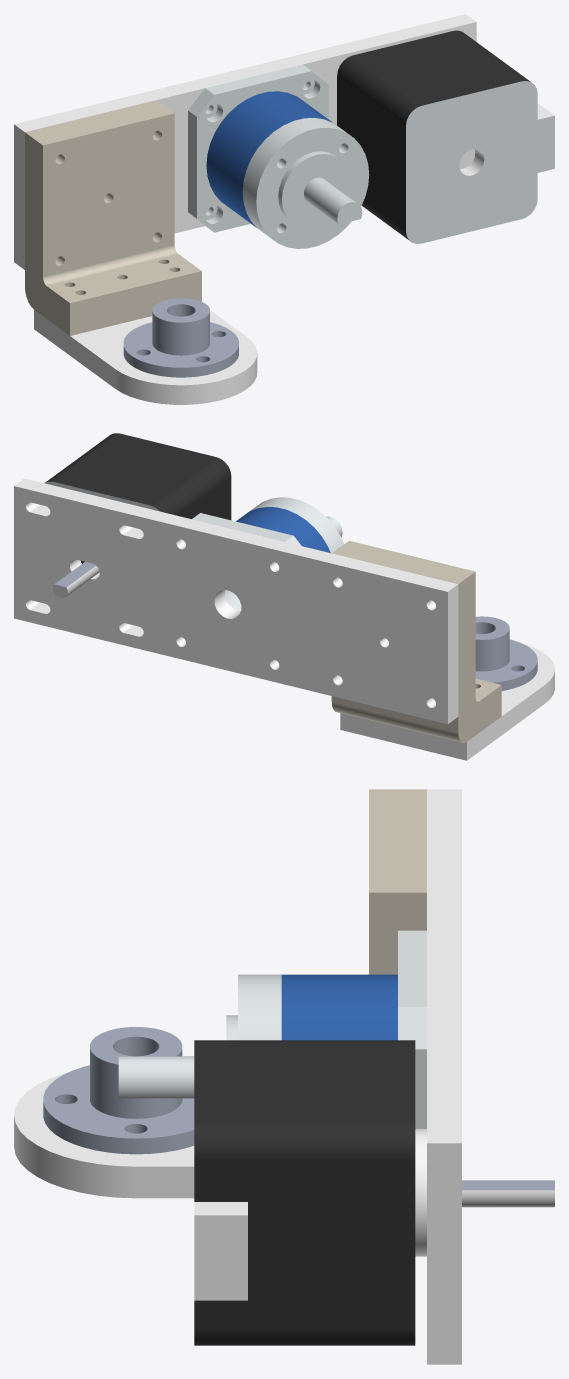
File: axis2.fbx
The picture shows the model from 3 angles, top to bottom: view 1: azimuth 30°, elevation 25°; view 2: azimuth 150°, elevation 25°; view 3: azimuth 270°, elevation 25°; orthographic projection. The views are drawn at different scales.
Parts seen in each view (by area): view 1: ÇÐ³ý-ÀÉì3, Ô²½Ç2, ÇÐ³ý-ÀÉì6, Í¹Ì¨-ÀÉì1 (×2), ÇÐ³ý-ÀÉì2; view 2: Í¹Ì¨-ÀÉì1 (×2), ÇÐ³ý-ÀÉì3, Ô²½Ç2, ÇÐ³ý-ÀÉì6, ÇÐ³ý-ÀÉì2; view 3: ÇÐ³ý-ÀÉì3, Í¹Ì¨-ÀÉì1 (×2), ÇÐ³ý-ÀÉì6, ÇÐ³ý-ÀÉì2, Ô²½Ç2.
Boxes of the visible parts, <box> form: ÇÐ³ý-ÀÉì3: <box>337,30,554,243</box>; Ô²½Ç2: <box>25,100,201,335</box>; ÇÐ³ý-ÀÉì6: <box>188,64,369,248</box>; Í¹Ì¨-ÀÉì1 (×2): <box>14,14,476,404</box>; ÇÐ³ý-ÀÉì2: <box>123,298,238,377</box>; Í¹Ì¨-ÀÉì1 (×2): <box>14,478,554,760</box>; ÇÐ³ý-ÀÉì3: <box>45,433,231,598</box>; Ô²½Ç2: <box>331,540,501,742</box>; ÇÐ³ý-ÀÉì6: <box>192,497,343,611</box>; ÇÐ³ý-ÀÉì2: <box>475,616,537,690</box>; ÇÐ³ý-ÀÉì3: <box>194,1040,554,1345</box>; Í¹Ì¨-ÀÉì1 (×2): <box>14,789,461,1364</box>; ÇÐ³ý-ÀÉì6: <box>118,930,426,1128</box>; ÇÐ³ý-ÀÉì2: <box>43,1027,194,1154</box>; Ô²½Ç2: <box>369,789,426,974</box>.
Size of the model in its own units: 5.74 by 2.29 by 3.66.
